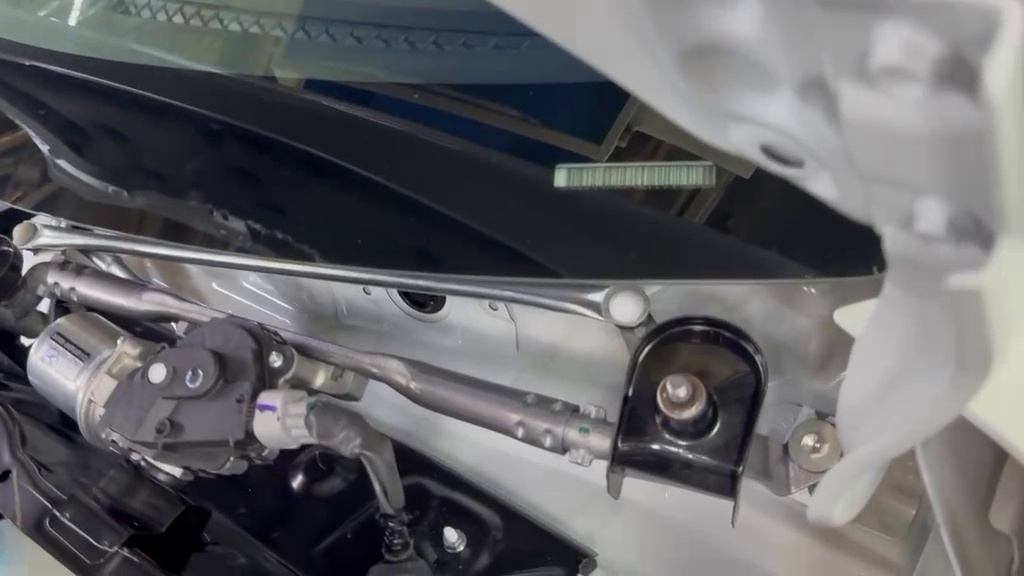barcode: (581, 310, 796, 538)
hinge: (546, 152, 748, 206)
